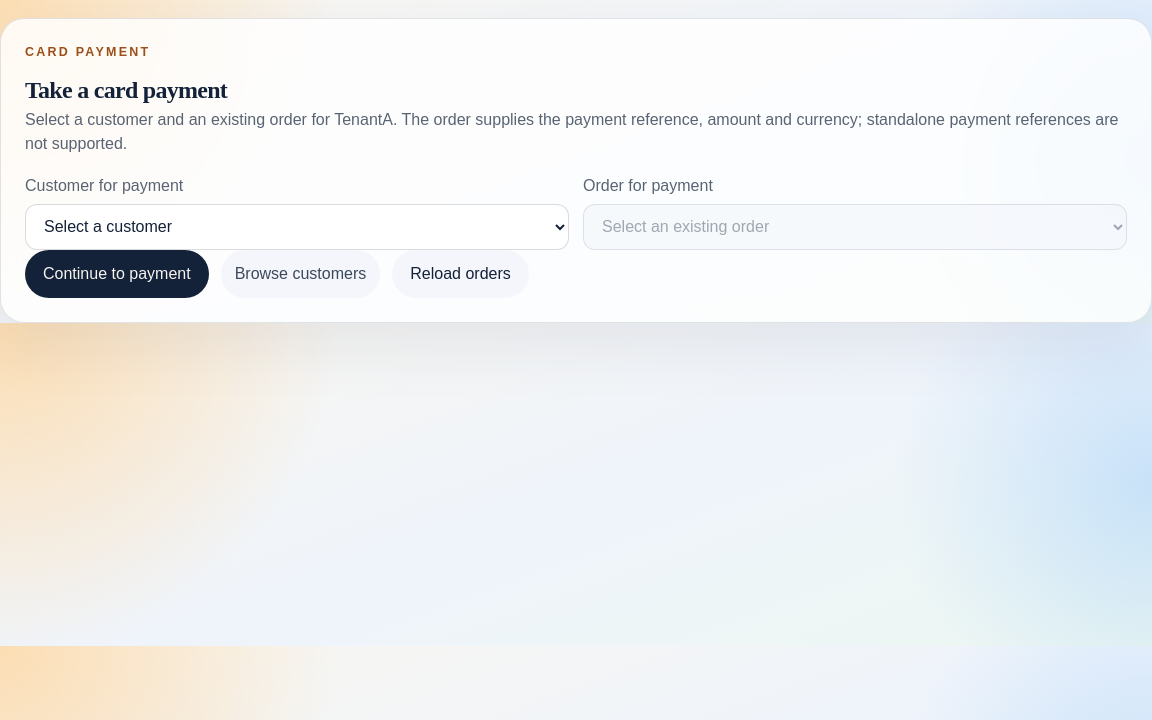
Payments entry selects persisted orders › filters ineligible orders and navigates with the selected customer, order and tenant
The image size is (1152, 720).
Select "Alice — alice@example.test" in the dropdown labelled "Customer for payment" at (297, 227), box [25,204,569,250]
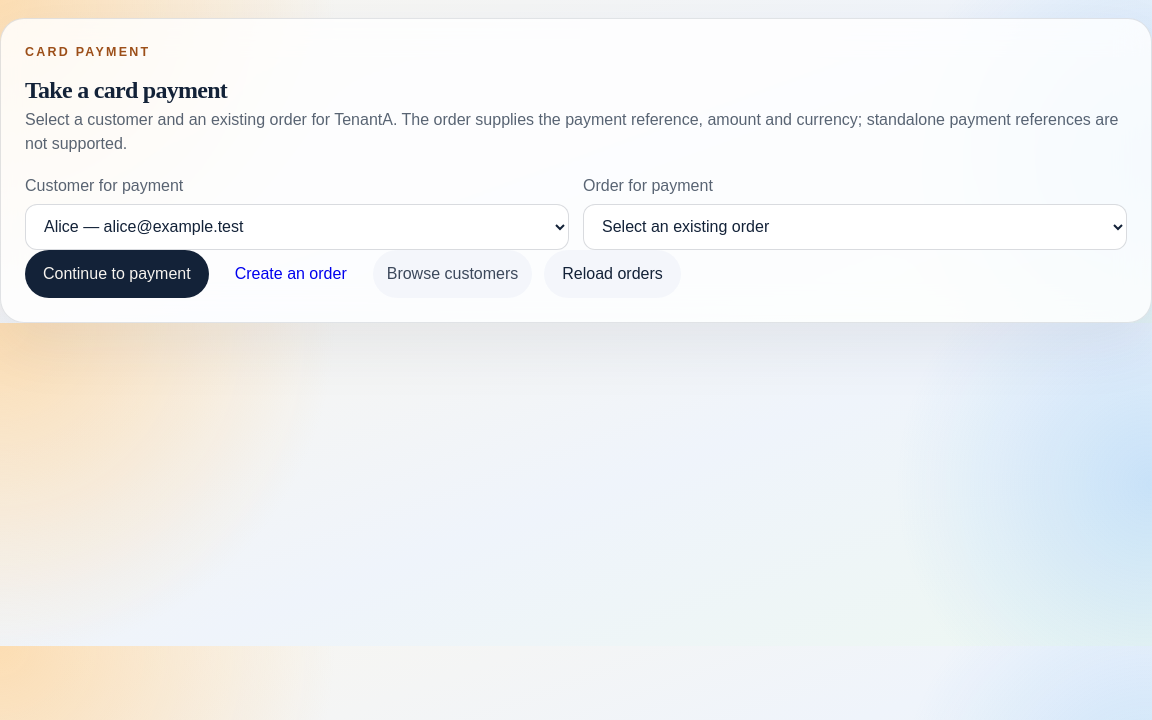
Select "ORDER-42 — 100.00 MXN" in the dropdown labelled "Order for payment" at (855, 227), box [583,204,1127,250]
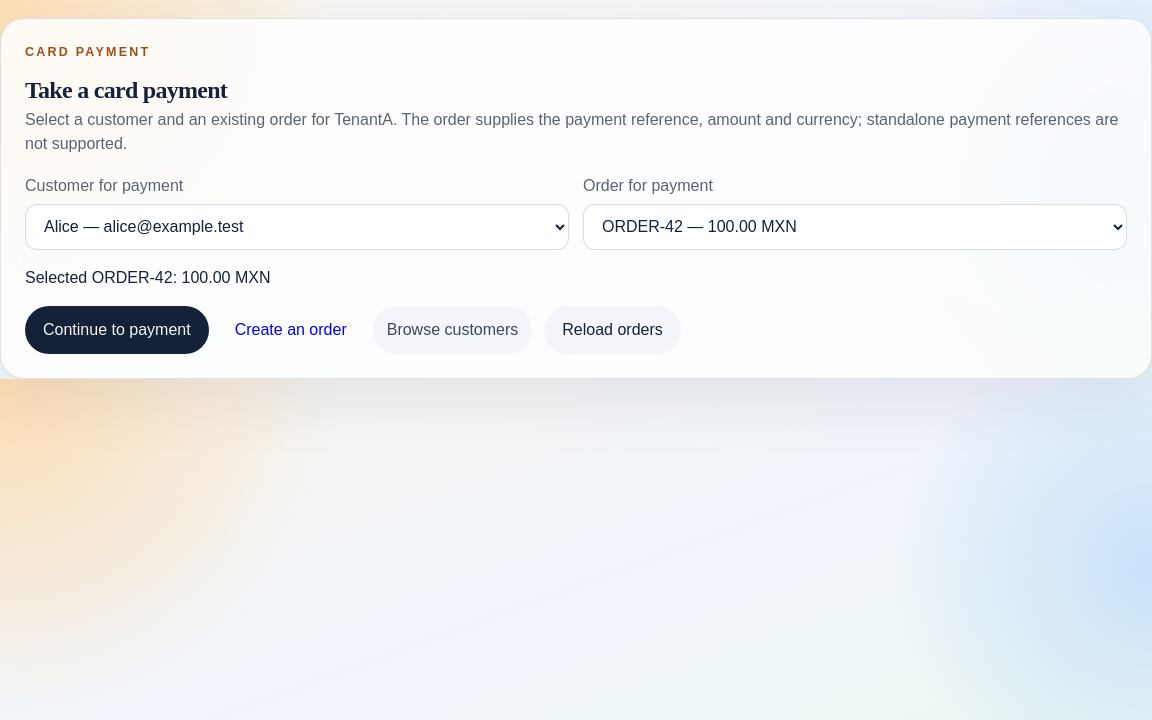
Expected: the message shows "100.00 MXN", [25,269,270,286]
Click the button "Continue to payment".
click(117, 330)  # box [25,306,209,354]
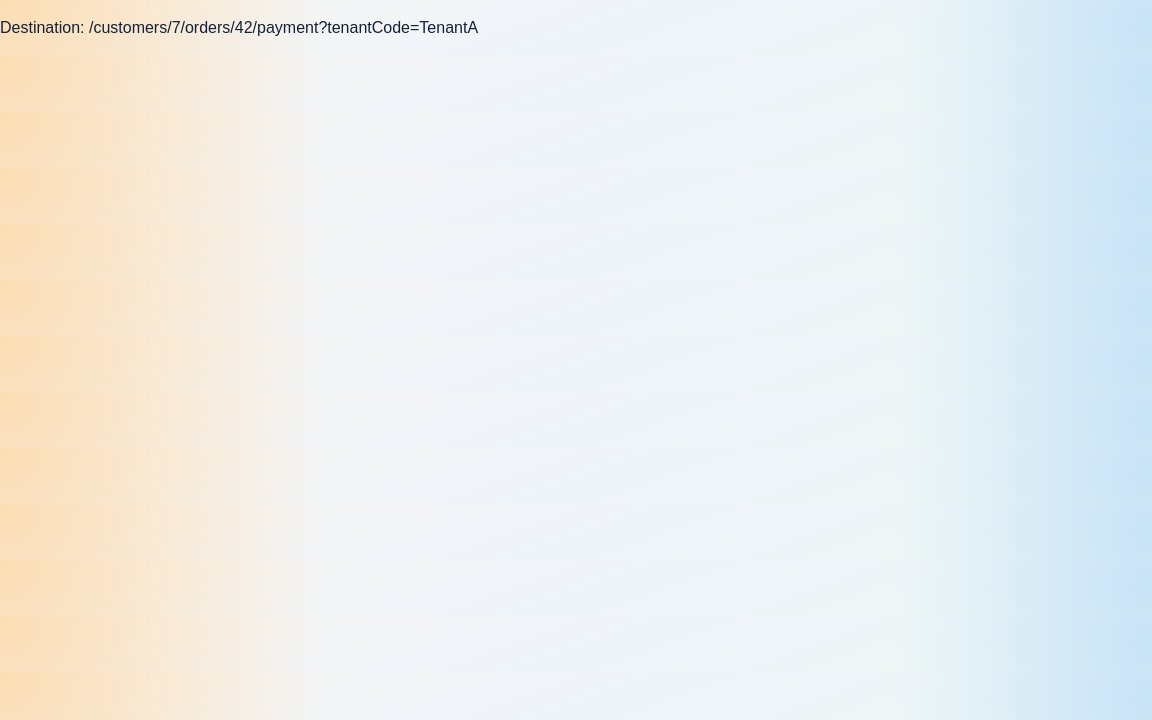
Expected: the text "Destination: /customers/7/orders/42/payment?tenantCode=TenantA" is shown, [0,19,478,36]
